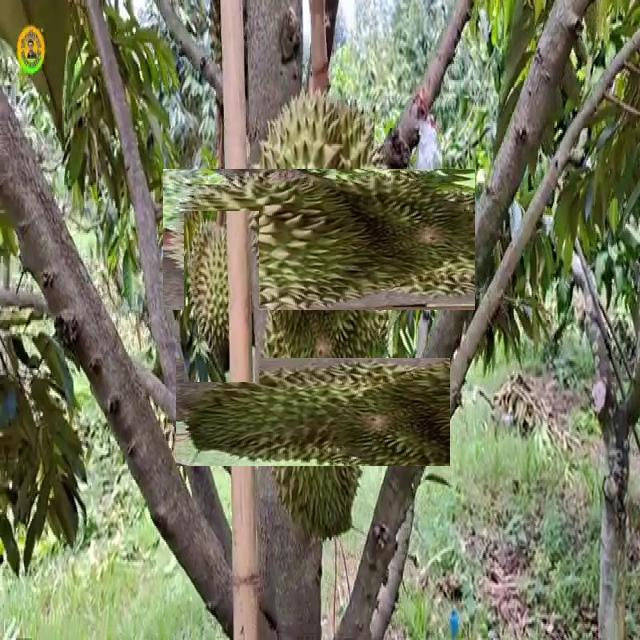durian: (205, 126, 433, 352), (217, 317, 409, 508), (184, 211, 259, 382)
